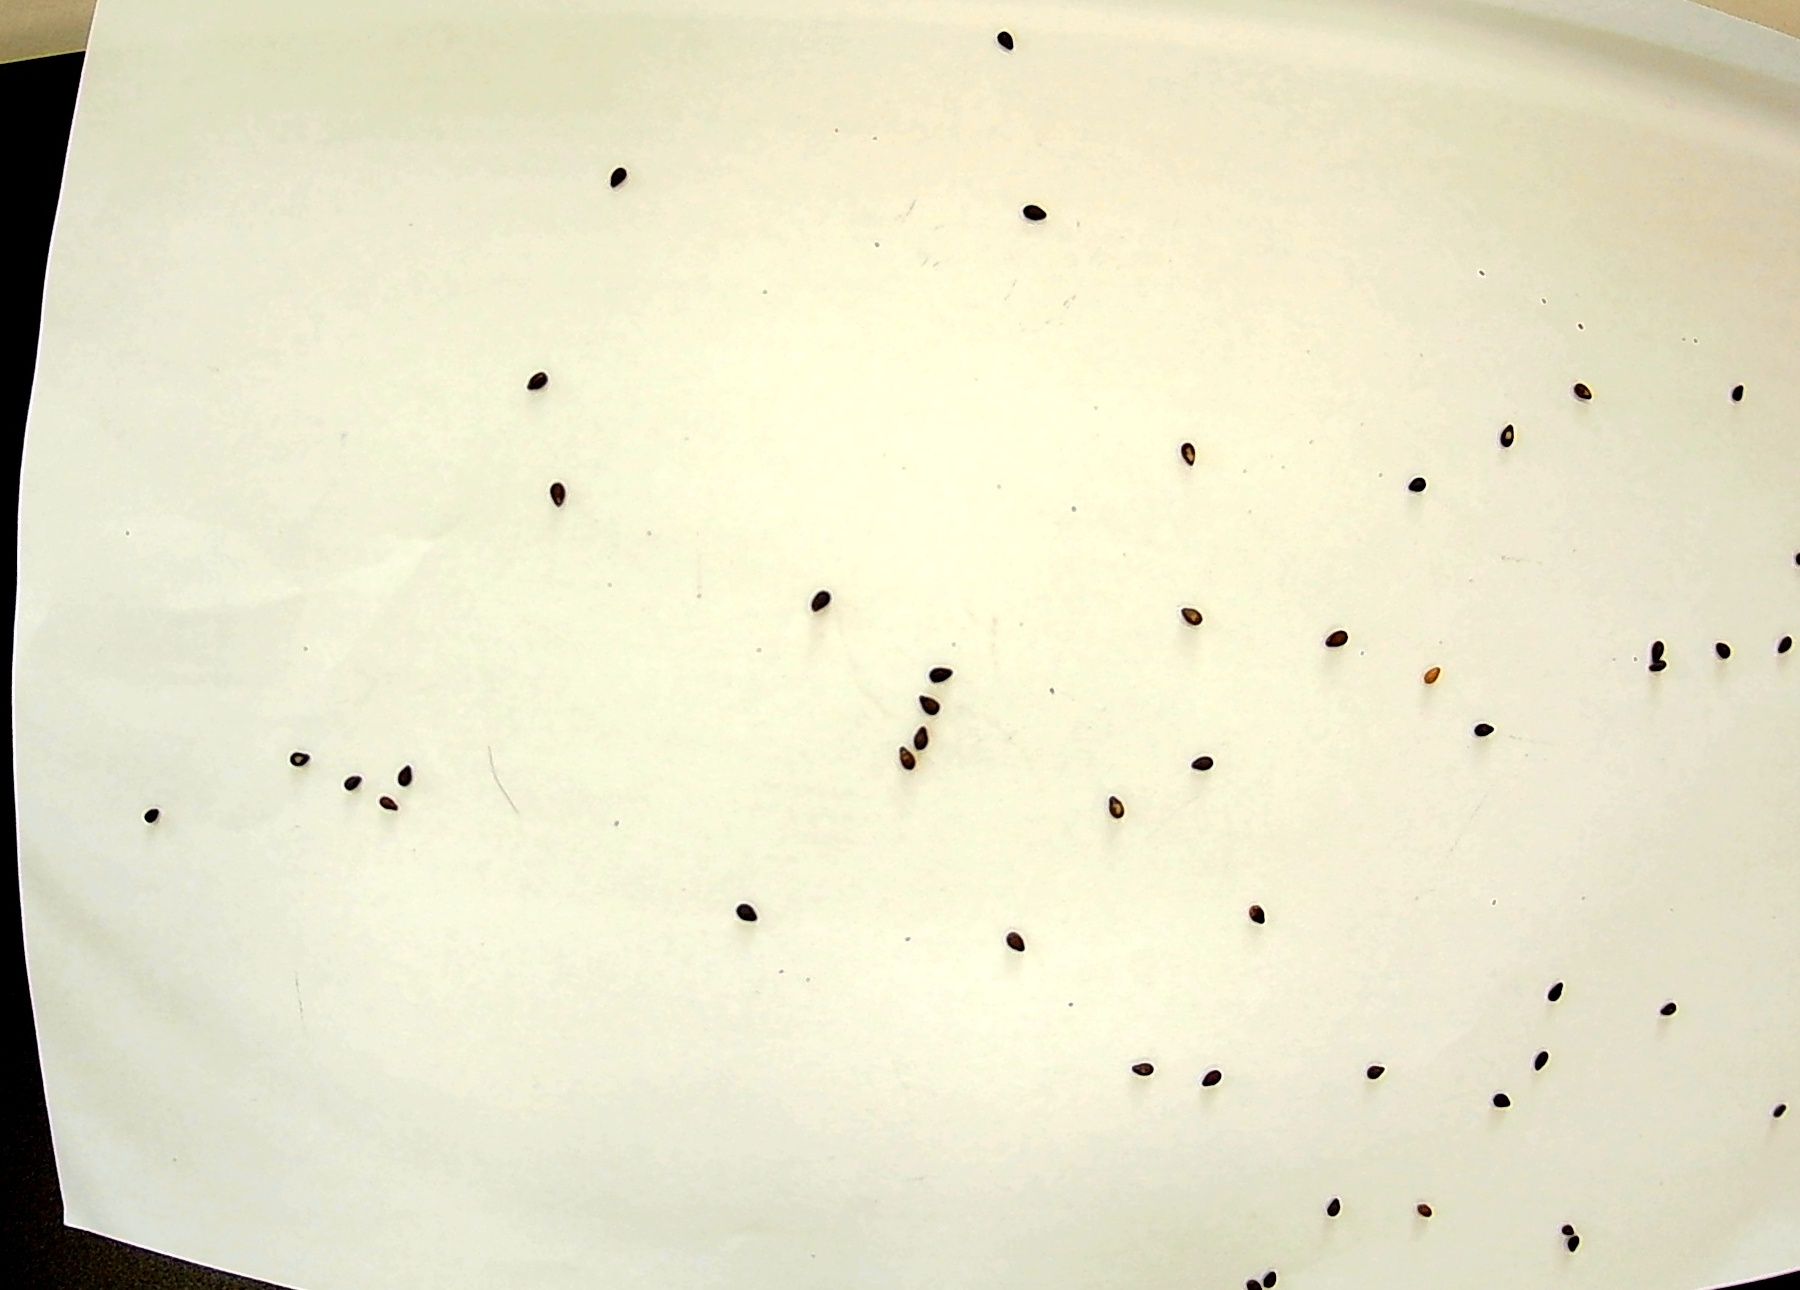sesami: (992, 914, 1042, 961), (1100, 780, 1146, 824), (1161, 434, 1204, 476), (131, 794, 180, 831), (1176, 591, 1215, 635), (1402, 1187, 1447, 1224), (1176, 748, 1233, 778), (1118, 1058, 1168, 1089), (1561, 376, 1610, 406), (727, 895, 767, 930), (1651, 988, 1691, 1023), (1200, 1055, 1232, 1097), (1485, 1081, 1518, 1118), (885, 747, 927, 776), (1418, 651, 1447, 692), (1497, 416, 1532, 451), (1542, 974, 1578, 1008), (1321, 623, 1360, 653), (1351, 1060, 1400, 1083), (1719, 378, 1758, 408), (287, 746, 322, 778), (1765, 628, 1800, 660), (513, 369, 554, 395), (1711, 634, 1746, 665), (606, 163, 642, 193), (1404, 466, 1434, 500), (1472, 711, 1501, 746), (1019, 202, 1049, 235), (1641, 660, 1687, 681), (388, 759, 426, 785), (1527, 1046, 1560, 1074), (993, 24, 1024, 53), (918, 665, 960, 685), (809, 585, 834, 618), (904, 727, 938, 752), (1243, 894, 1268, 927), (1264, 1252, 1285, 1290), (1320, 1194, 1347, 1223), (1768, 1096, 1797, 1122), (918, 691, 949, 716), (1553, 1210, 1587, 1233), (1561, 1237, 1589, 1261), (541, 482, 568, 505), (374, 793, 403, 814), (1649, 638, 1676, 660), (342, 773, 361, 799)
